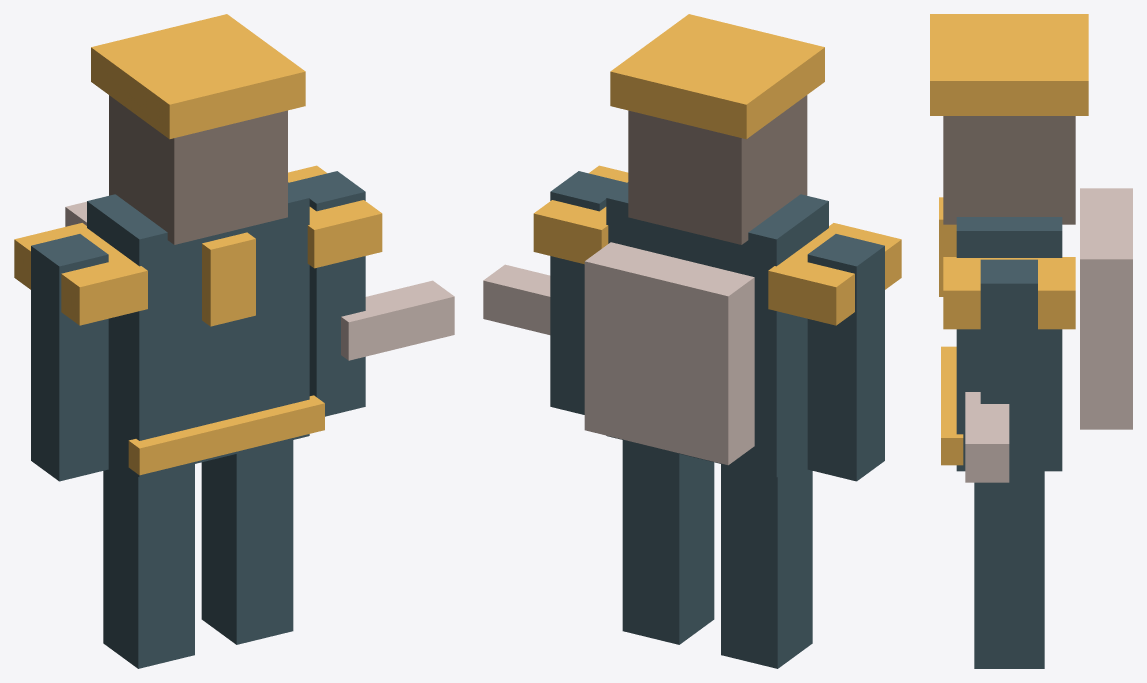
File: 03_talia_voxmere_archivist_from_reset.glb
3 views of the same model, side by side, from view 1: azimuth 30°, elevation 25°; view 2: azimuth 150°, elevation 25°; view 3: azimuth 270°, elevation 25° (orthographic).
Visible parts, largest first — view 1: Talia Voxmere, Archivist from Reset; view 2: Talia Voxmere, Archivist from Reset; view 3: Talia Voxmere, Archivist from Reset.
Boxes of the visible parts, box(x1,y1,x2,y2) form: Talia Voxmere, Archivist from Reset: box(14, 14, 454, 668); Talia Voxmere, Archivist from Reset: box(483, 14, 901, 668); Talia Voxmere, Archivist from Reset: box(930, 14, 1132, 668).
Bounding box in the file's own units: 1.01 × 1.44 × 0.4548.
